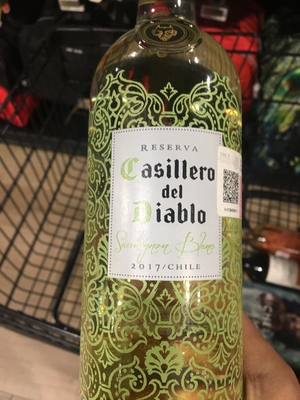casillero del diablo sauvignon blanc: (78, 16, 257, 400)
